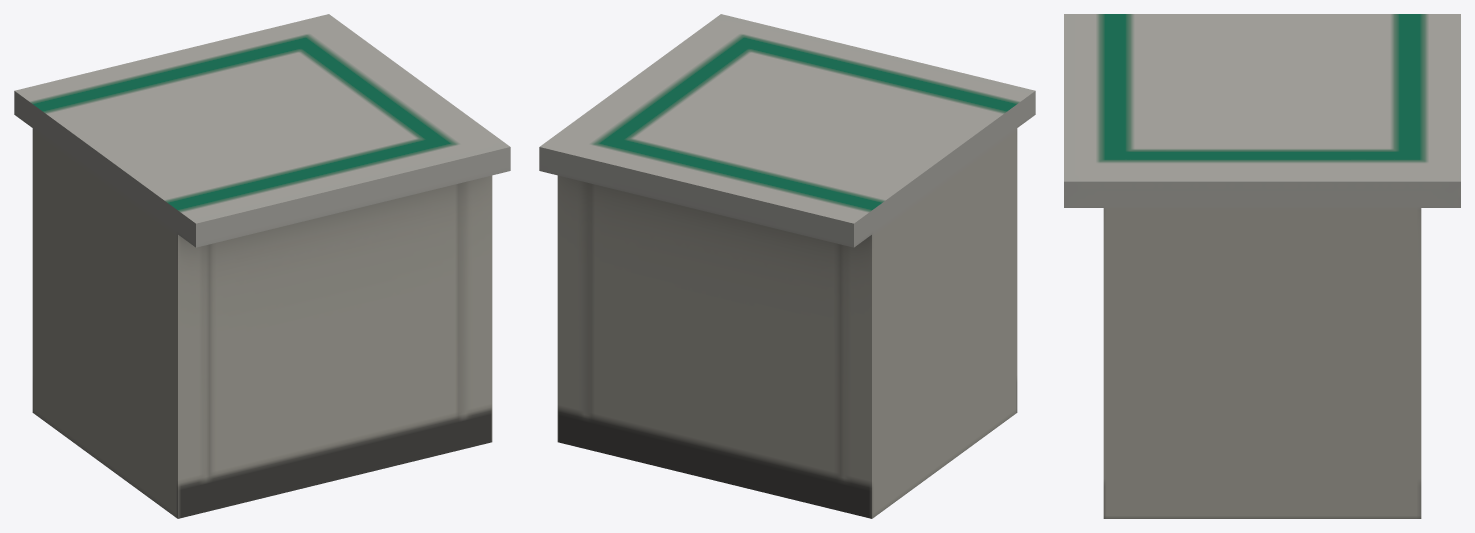
File: sb_obj_ModernCity059_counter_b.fbx
3 renders of one model, left to right at view 1: azimuth 30°, elevation 25°; view 2: azimuth 150°, elevation 25°; view 3: azimuth 270°, elevation 25°, orthographic. The views are drawn at different scales.
Parts seen in each view (by area): view 1: sb_obj_ModernCity059_counter_b; view 2: sb_obj_ModernCity059_counter_b; view 3: sb_obj_ModernCity059_counter_b.
Boxes of the visible parts, x1=… form: sb_obj_ModernCity059_counter_b: x1=14, y1=14, x2=510, y2=518; sb_obj_ModernCity059_counter_b: x1=539, y1=14, x2=1035, y2=518; sb_obj_ModernCity059_counter_b: x1=1064, y1=14, x2=1460, y2=518.
Bounding box in the file's own units: 0.64 × 0.6 × 0.64.
1 material, 1 textured.
